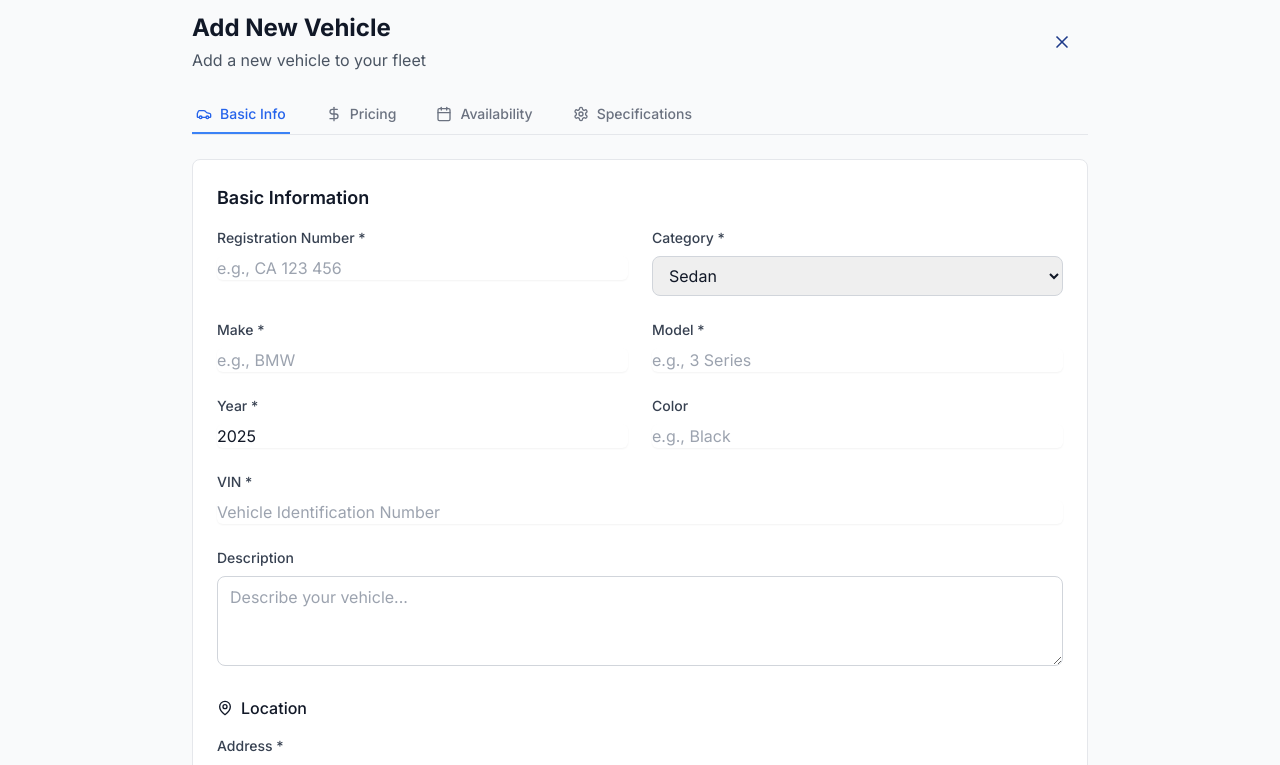
Test: VehicleEditor › should switch between tabs
Expected: the heading "Basic Information" is shown, x1=217 y1=187 x2=369 y2=208
# Click pricing tab
Click the button "Pricing": point(361, 115) x1=322 y1=96 x2=400 y2=134
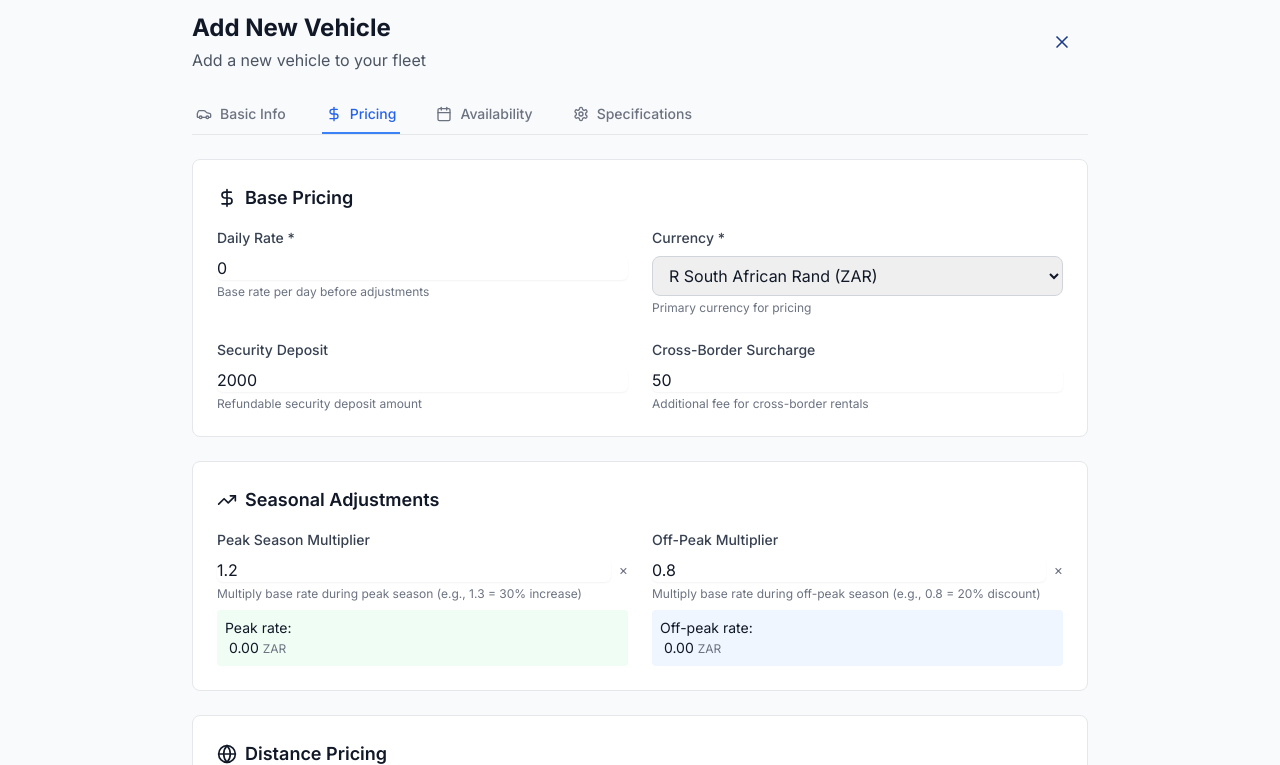
Now the heading "Base Pricing" is shown, box x1=217 y1=187 x2=353 y2=208
# Click availability tab
Click the button "Availability": point(484, 115) x1=432 y1=96 x2=537 y2=134
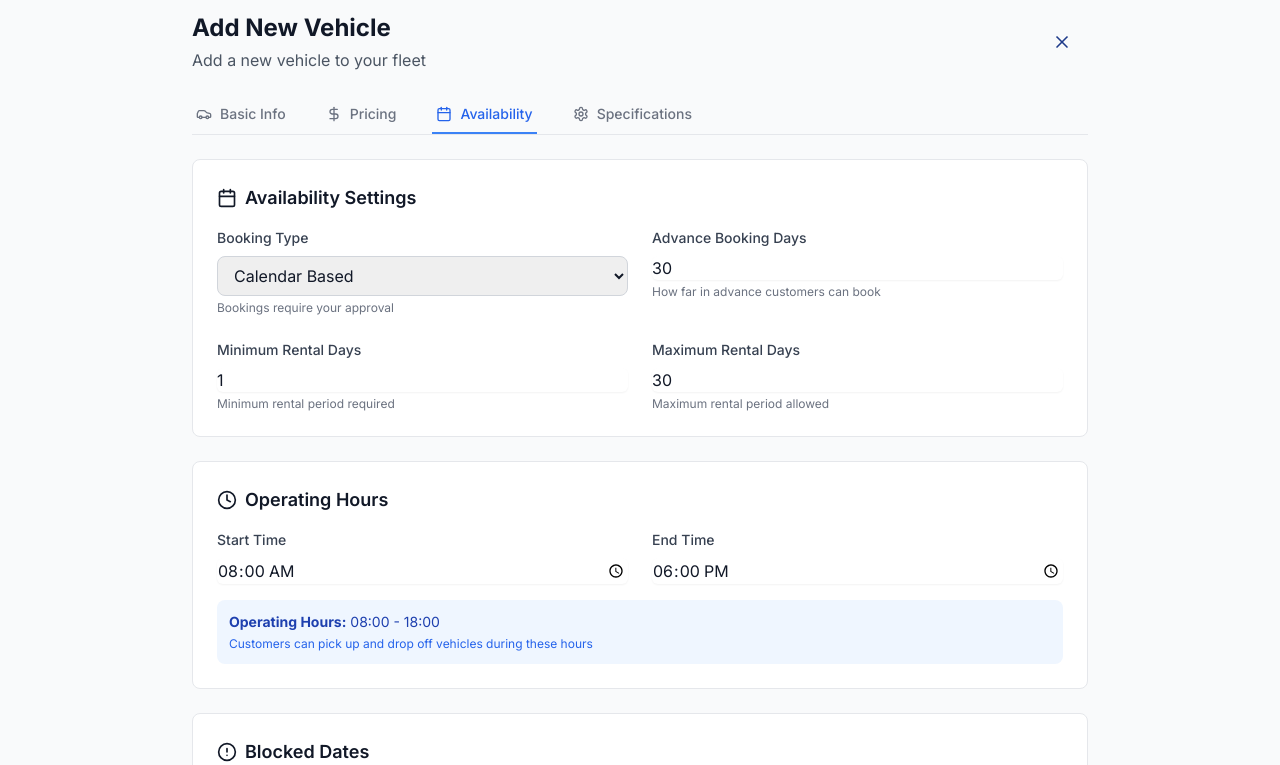
Now the heading "Availability Settings" is shown, box x1=217 y1=187 x2=416 y2=208
# Click specifications tab
Click the button "Specifications": point(632, 115) x1=569 y1=96 x2=696 y2=134
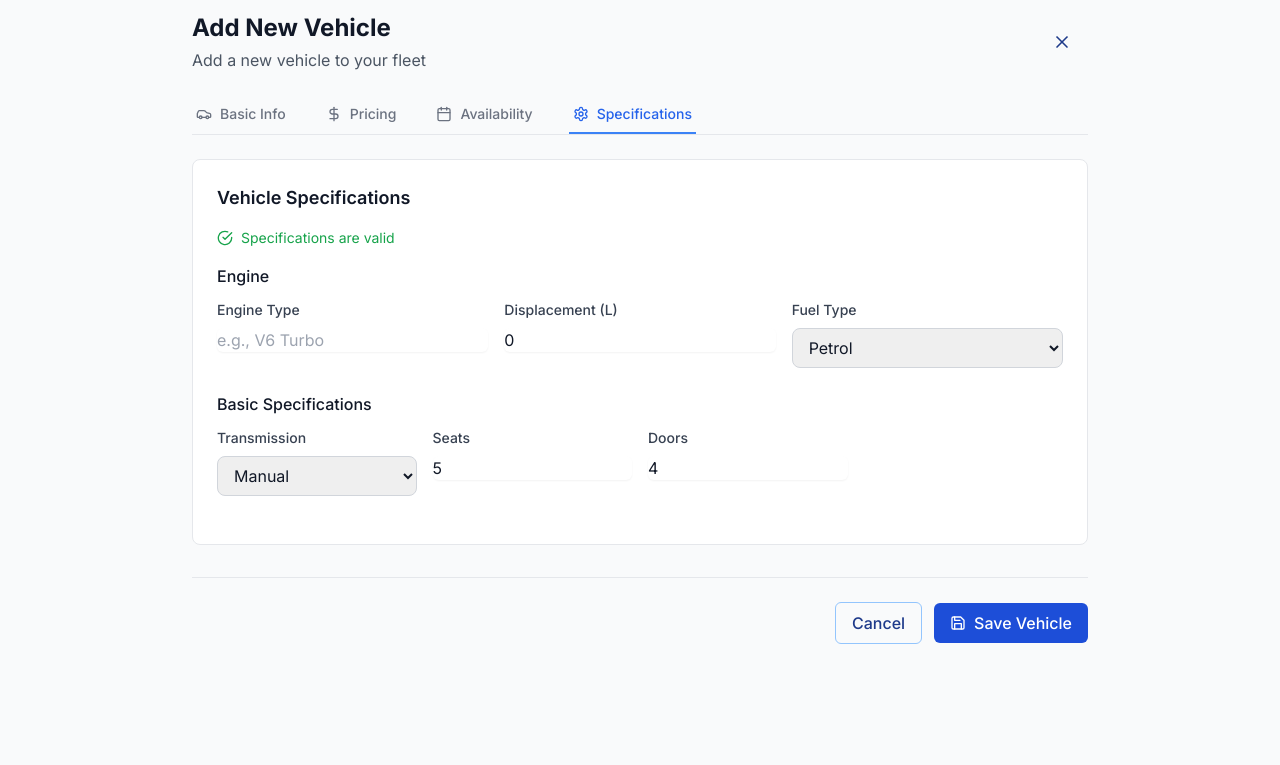
Now the heading "Vehicle Specifications" is shown, box x1=217 y1=187 x2=410 y2=208
